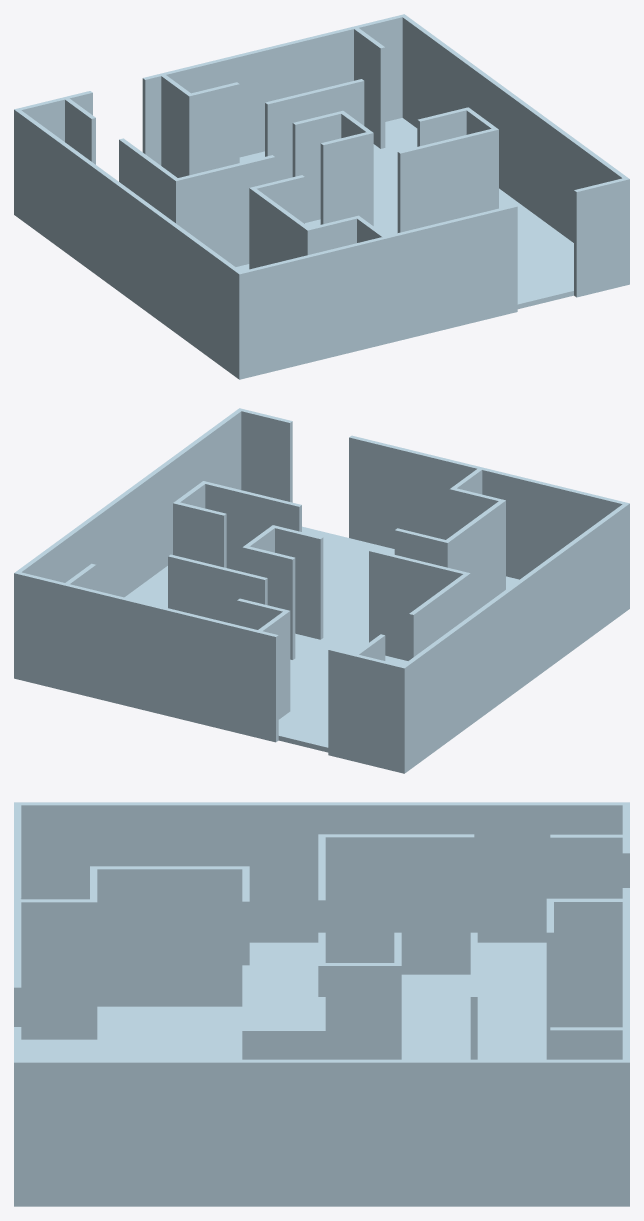
The model's file is maze_big.gltf.
3 renders of one model, top to bottom at view 1: azimuth 30°, elevation 25°; view 2: azimuth 150°, elevation 25°; view 3: azimuth 270°, elevation 25°, orthographic. The views are drawn at different scales.
Parts seen in each view (by area): view 1: mesh18, mesh20, mesh33, mesh40, mesh45, mesh66, mesh50, mesh26, mesh74, mesh36, mesh56, mesh17 (+16 smaller); view 2: mesh27, mesh20, mesh33, mesh45, mesh0, mesh19, mesh10, mesh52, mesh57, mesh7, mesh32, mesh63 (+12 smaller); view 3: mesh28, mesh11, mesh45, mesh3, mesh51, mesh1, mesh39, mesh73, mesh17, mesh41, mesh15, mesh65 (+5 smaller).
Boxes of the visible parts, left/top/right/bottom form: mesh18: left=239, top=206, right=517, bottom=379; mesh20: left=14, top=109, right=239, bottom=379; mesh33: left=402, top=17, right=621, bottom=242; mesh40: left=166, top=29, right=353, bottom=157; mesh45: left=236, top=118, right=573, bottom=304; mesh66: left=400, top=129, right=498, bottom=232; mesh50: left=176, top=157, right=274, bottom=266; mesh26: left=576, top=179, right=629, bottom=297; mesh74: left=323, top=133, right=373, bottom=225; mesh36: left=189, top=84, right=239, bottom=175; mesh56: left=267, top=81, right=364, bottom=181; mesh17: left=14, top=91, right=517, bottom=274; mesh27: left=14, top=573, right=275, bottom=742; mesh20: left=404, top=503, right=629, bottom=773; mesh33: left=22, top=411, right=241, bottom=597; mesh45: left=124, top=526, right=518, bottom=747; mesh0: left=349, top=437, right=476, bottom=548; mesh19: left=328, top=650, right=404, bottom=773; mesh10: left=482, top=470, right=622, bottom=579; mesh52: left=369, top=551, right=462, bottom=660; mesh57: left=168, top=556, right=264, bottom=624; mesh7: left=447, top=501, right=505, bottom=614; mesh32: left=241, top=411, right=289, bottom=501; mesh63: left=205, top=484, right=299, bottom=571; mesh28: left=14, top=1062, right=629, bottom=1206; mesh11: left=21, top=805, right=622, bottom=942; mesh45: left=21, top=942, right=546, bottom=1059; mesh3: left=97, top=869, right=242, bottom=1006; mesh51: left=325, top=837, right=474, bottom=974; mesh1: left=21, top=902, right=97, bottom=1039; mesh39: left=554, top=902, right=622, bottom=1027; mesh73: left=318, top=966, right=401, bottom=1059; mesh17: left=14, top=802, right=629, bottom=987; mesh41: left=14, top=888, right=629, bottom=1062; mesh15: left=550, top=837, right=622, bottom=898; mesh65: left=242, top=1031, right=325, bottom=1059.
Size of the model in its own units: 10.14 by 2.62 by 10.14.
